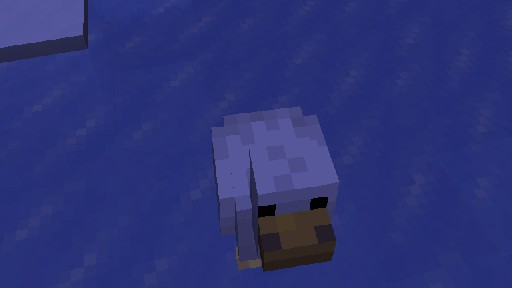chicken: (210, 105, 339, 272)
